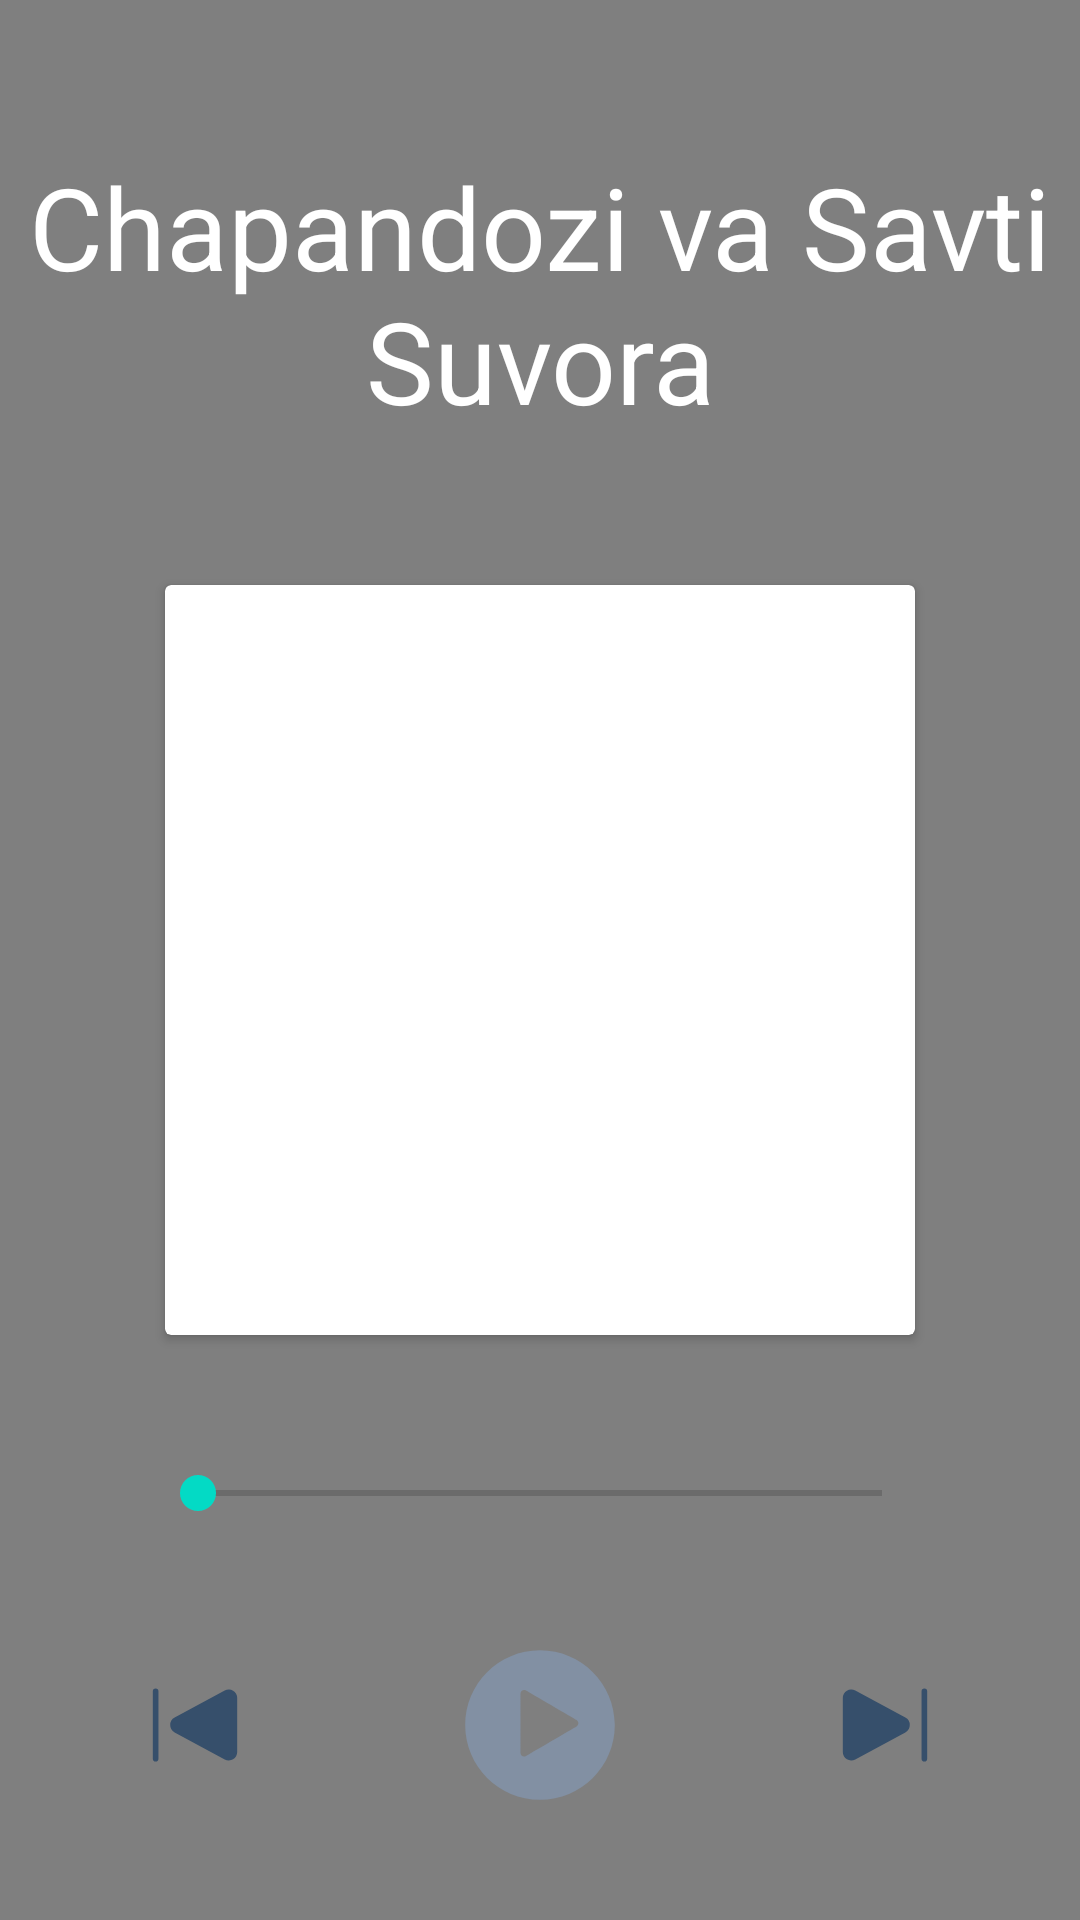

Named icons in this screenshot (1080x1920) and their bounding boxes, Rect(x1, y1, x2, y2):
back: Rect(153, 1688, 237, 1762)
next: Rect(843, 1688, 927, 1762)
play: Rect(465, 1650, 615, 1800)
